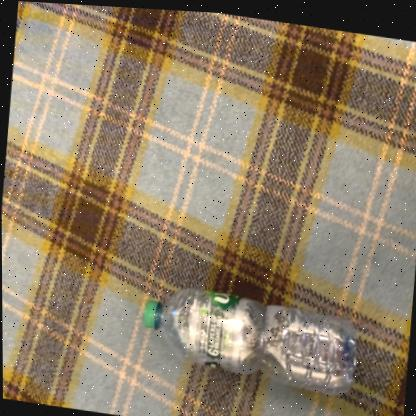Plastic: (142, 286, 355, 391)
